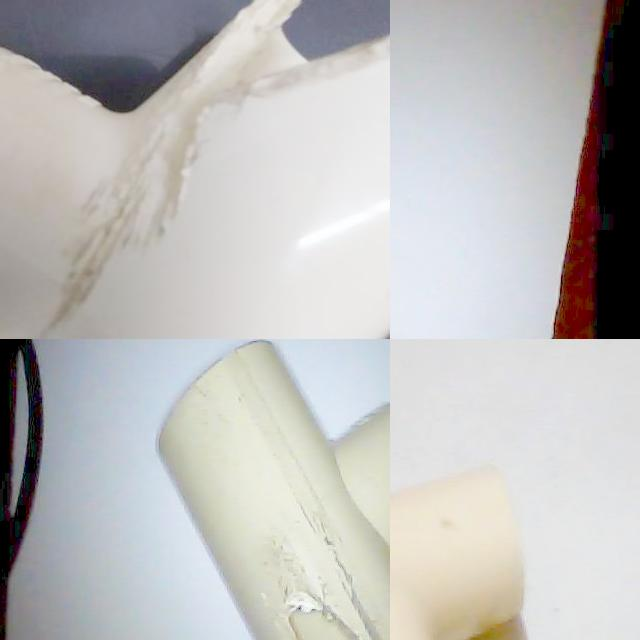Defective: (235, 0, 390, 103), (128, 104, 204, 231), (202, 51, 249, 147)
T Joint: (390, 467, 524, 640)
